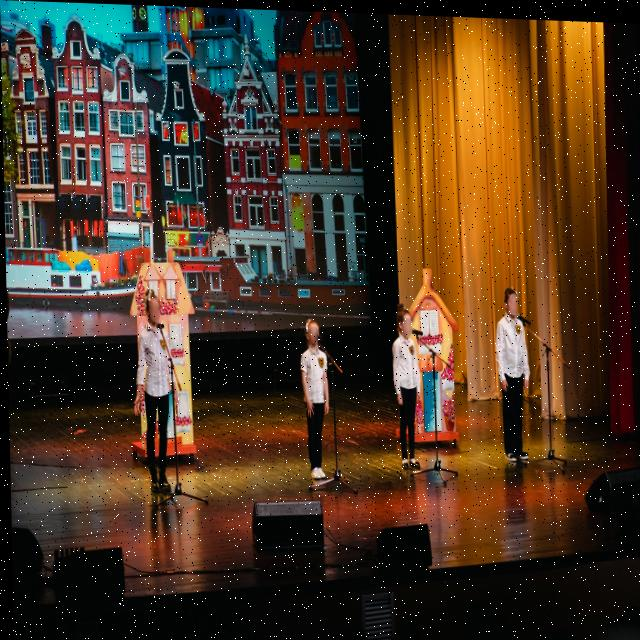Person: (116, 282, 191, 526), (480, 279, 541, 480), (286, 305, 340, 490), (379, 297, 431, 474)
